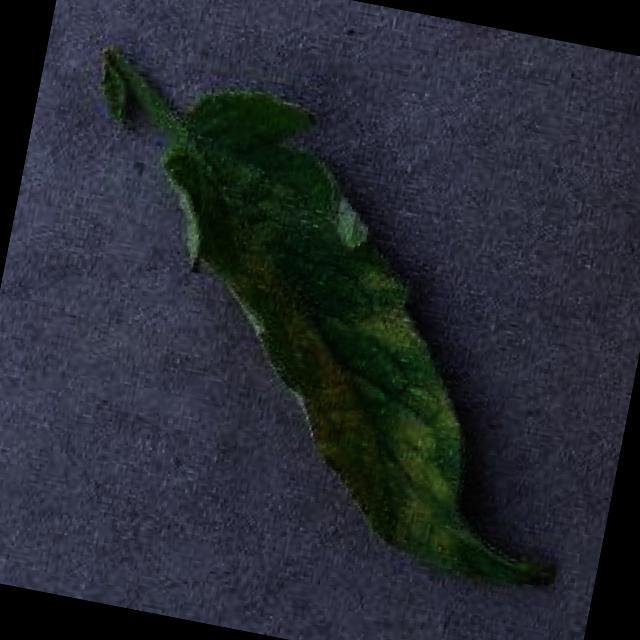Tomato mold leaf: (98, 75, 631, 600)
